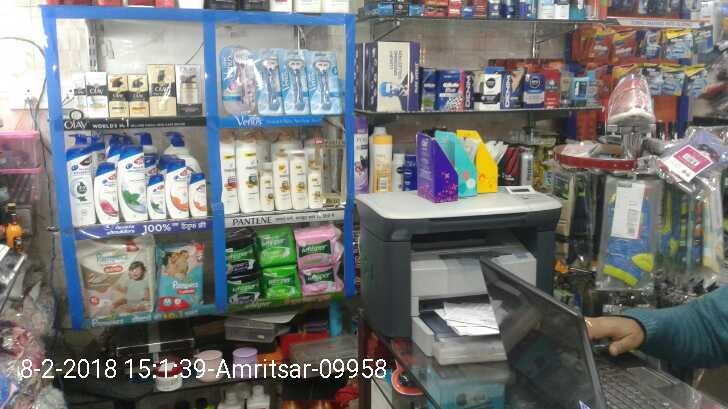gillete: (436, 71, 462, 111), (686, 67, 711, 98), (665, 31, 690, 59), (663, 63, 683, 97), (588, 32, 614, 58), (638, 30, 662, 57), (617, 31, 637, 56), (647, 63, 663, 92), (572, 1, 582, 19)
venus: (222, 47, 257, 110), (284, 53, 311, 111), (311, 51, 337, 111), (259, 53, 284, 111)
